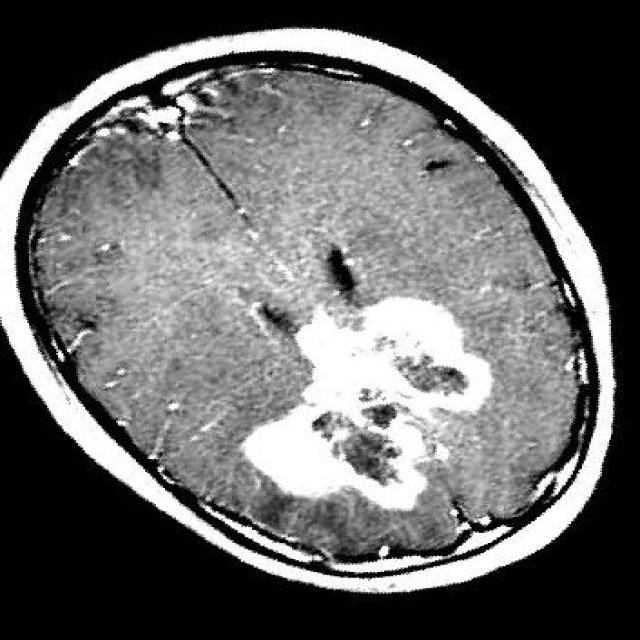Tumor-Cell: (280, 266, 467, 482)
